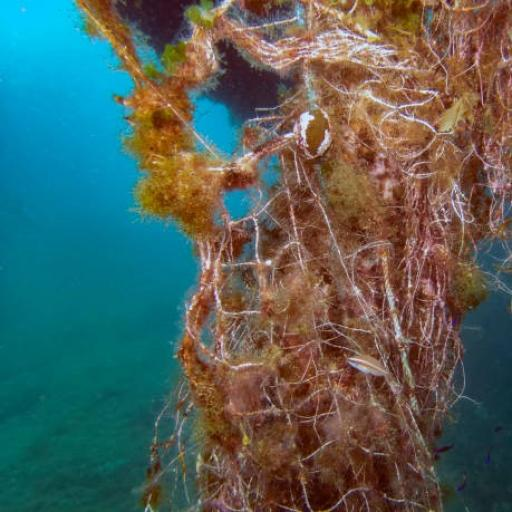net: (68, 4, 496, 512)
